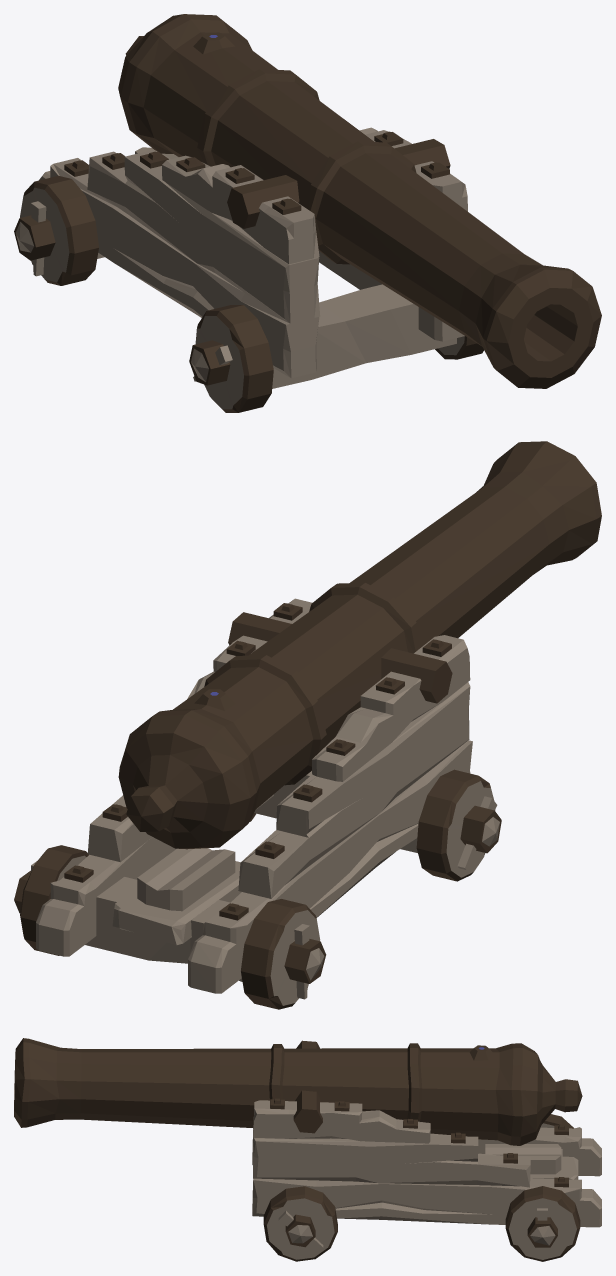
The model's file is SM_Prop_Cannon_02_Separate.glb.
The picture shows the model from 3 angles, top to bottom: view 1: azimuth 30°, elevation 25°; view 2: azimuth 150°, elevation 25°; view 3: azimuth 270°, elevation 25°; orthographic projection. The views are drawn at different scales.
Parts seen in each view (by area): view 1: SM_Prop_Cannon_02_Separate_03, SM_Prop_Cannon_02_Separate_00, SM_Prop_Cannon_02_Separate_01, SM_Prop_Cannon_02_Separate_02; view 2: SM_Prop_Cannon_02_Separate_03, SM_Prop_Cannon_02_Separate_00, SM_Prop_Cannon_02_Separate_02, SM_Prop_Cannon_02_Separate_01; view 3: SM_Prop_Cannon_02_Separate_03, SM_Prop_Cannon_02_Separate_00, SM_Prop_Cannon_02_Separate_02, SM_Prop_Cannon_02_Separate_01.
Boxes of the visible parts, <box> form: SM_Prop_Cannon_02_Separate_03: <box>118,14,601,388</box>; SM_Prop_Cannon_02_Separate_00: <box>39,127,467,388</box>; SM_Prop_Cannon_02_Separate_01: <box>189,305,483,412</box>; SM_Prop_Cannon_02_Separate_02: <box>14,175,98,285</box>; SM_Prop_Cannon_02_Separate_03: <box>118,441,601,849</box>; SM_Prop_Cannon_02_Separate_00: <box>36,598,472,993</box>; SM_Prop_Cannon_02_Separate_02: <box>14,845,326,1009</box>; SM_Prop_Cannon_02_Separate_01: <box>249,769,501,881</box>; SM_Prop_Cannon_02_Separate_03: <box>14,1038,582,1145</box>; SM_Prop_Cannon_02_Separate_00: <box>252,1098,601,1227</box>; SM_Prop_Cannon_02_Separate_02: <box>505,1114,580,1261</box>; SM_Prop_Cannon_02_Separate_01: <box>263,1186,337,1261</box>.
Bounding box in the file's own units: 1.04 × 0.8555 × 2.55.
Materials: 1 (1 with a texture image).
